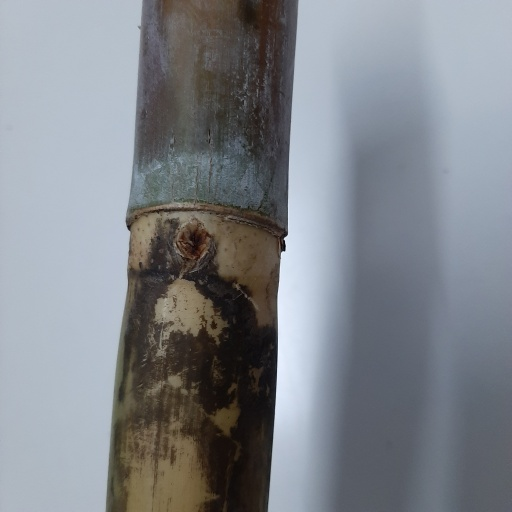Damage_Bud: (171, 217, 210, 262)
